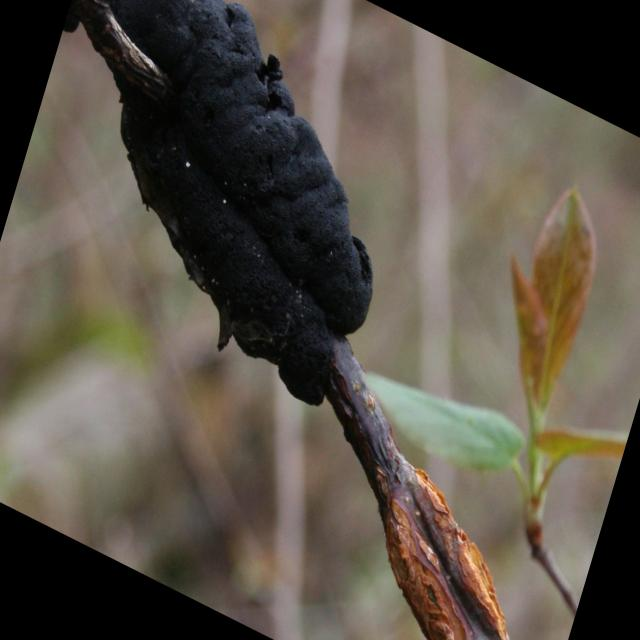Black_knot: (72, 0, 375, 408)
